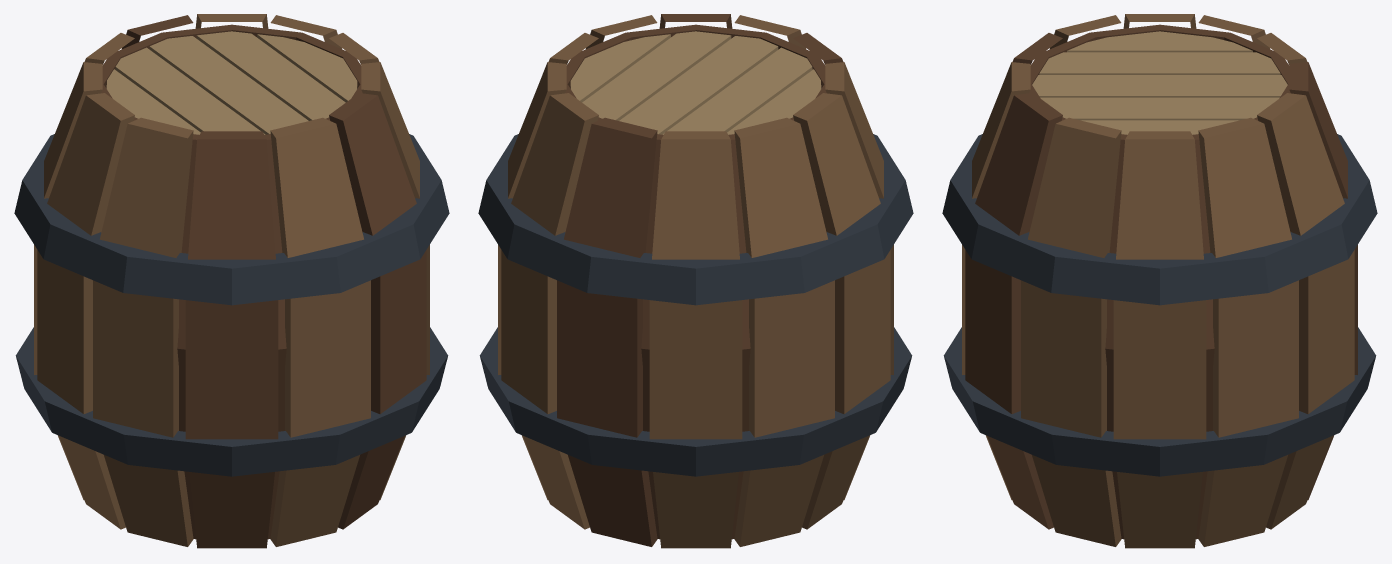
The model's file is barrel-aadc94.glb.
3 renders of one model, left to right at view 1: azimuth 30°, elevation 25°; view 2: azimuth 150°, elevation 25°; view 3: azimuth 270°, elevation 25°, orthographic.
Parts seen in each view (by area): view 1: barrel-body, lid-planks; view 2: barrel-body, lid-planks; view 3: barrel-body, lid-planks.
Part boxes in pixels (x1,y1,x2,y2): barrel-body: (14, 14, 449, 548); lid-planks: (106, 31, 357, 134); barrel-body: (478, 14, 913, 548); lid-planks: (570, 31, 821, 134); barrel-body: (942, 14, 1377, 548); lid-planks: (1032, 31, 1287, 134).
Bounding box in the file's own units: 0.8876 × 0.92 × 0.8876.
